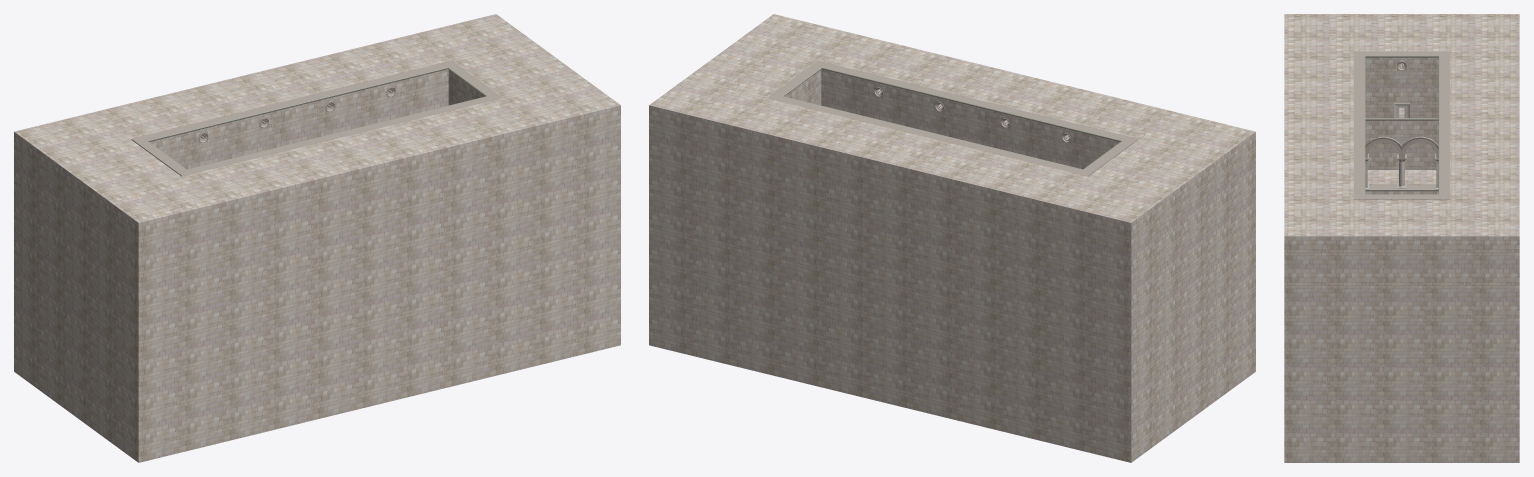
File: dabrovic-sponza-palace.fbx
The picture shows the model from 3 angles, left to right: view 1: azimuth 30°, elevation 25°; view 2: azimuth 150°, elevation 25°; view 3: azimuth 270°, elevation 25°; orthographic projection. The views are drawn at different scales.
Parts seen in each view (by area): view 1: outside01, walls, parapet, object23; view 2: outside01, walls, parapet, object23; view 3: outside01, walls, parapet, object23, arcs_small, arcs_01.
Boxes of the visible parts, bbox=[...] form: outside01: bbox=[14, 14, 620, 462]; walls: bbox=[131, 69, 485, 176]; parapet: bbox=[132, 60, 502, 175]; object23: bbox=[146, 67, 488, 169]; outside01: bbox=[649, 14, 1255, 462]; walls: bbox=[784, 69, 1138, 176]; parapet: bbox=[767, 60, 1137, 175]; object23: bbox=[781, 67, 1123, 169]; outside01: bbox=[1284, 14, 1519, 462]; walls: bbox=[1354, 57, 1449, 199]; parapet: bbox=[1354, 51, 1449, 198]; object23: bbox=[1364, 55, 1439, 194]; arcs_small: bbox=[1365, 139, 1438, 158]; arcs_01: bbox=[1365, 136, 1438, 150].
Bounding box in the file's own units: 34.82 × 16.56 × 15.6.
21 materials, 7 textured.
